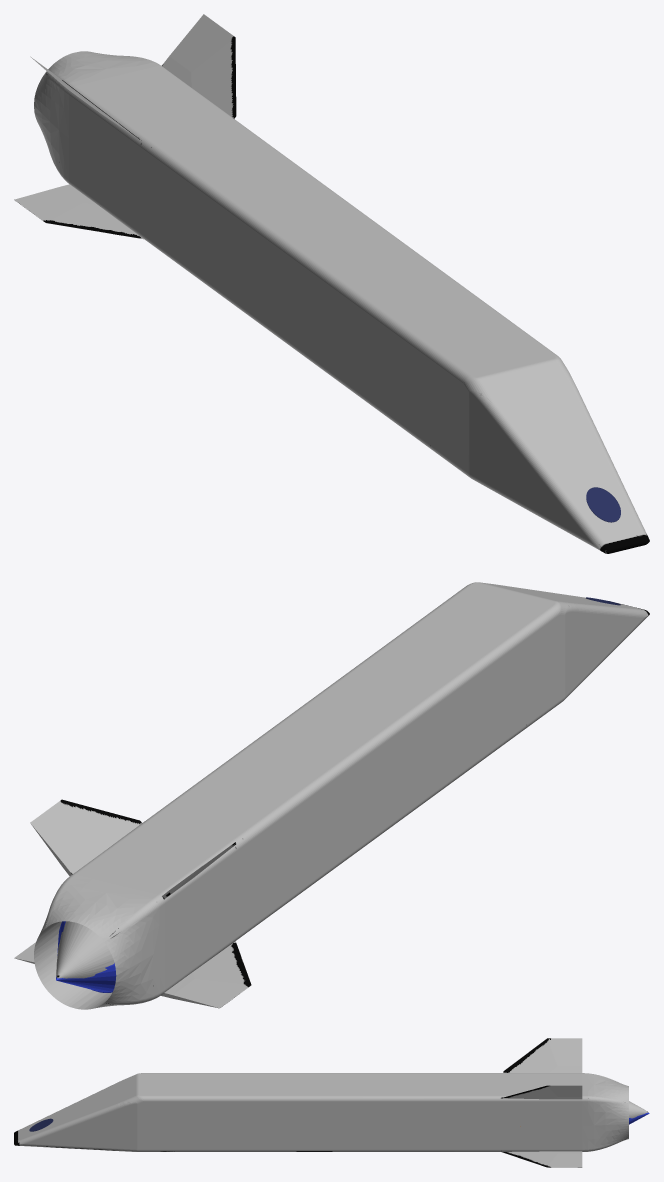
Rendered from Layout_Website.glb.
3 views of the same model, one above another, from view 1: azimuth 30°, elevation 25°; view 2: azimuth 150°, elevation 25°; view 3: azimuth 270°, elevation 25° (orthographic). The views are drawn at different scales.
Parts seen in each view (by area): view 1: Flight, Cylinder; view 2: Flight, Cone; view 3: Flight.
Part boxes in pixels (x1,y1,x2,y2): Flight: (14, 14, 649, 553); Cylinder: (586, 487, 620, 522); Flight: (14, 582, 649, 1009); Cone: (56, 921, 116, 992); Flight: (14, 1038, 648, 1167).
Bounding box in the file's own units: 0.762 × 0.504 × 3.67.
13 materials, 1 textured.
